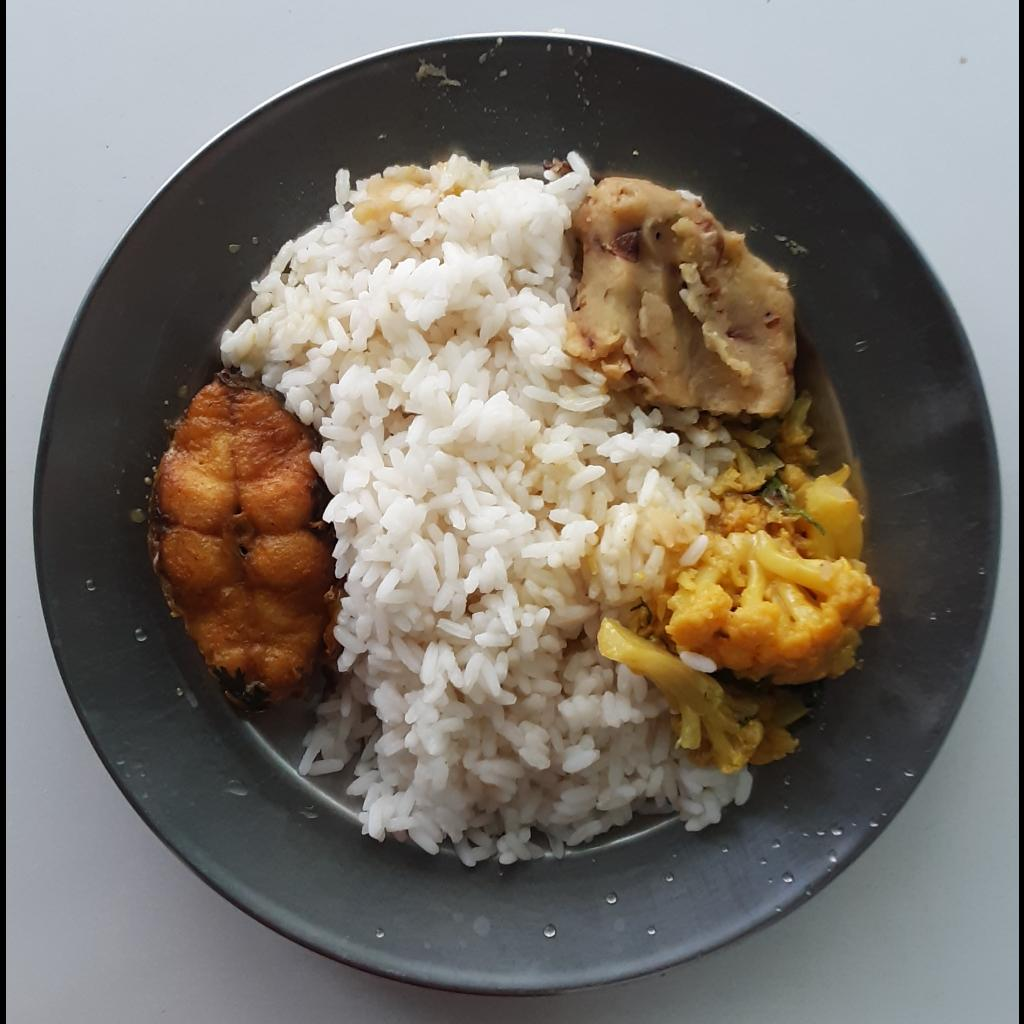cauliflower: (665, 387, 882, 682), (596, 622, 817, 772)
fish: (142, 370, 334, 714)
potato-mashed: (567, 180, 798, 417)
rice: (213, 144, 749, 871)
